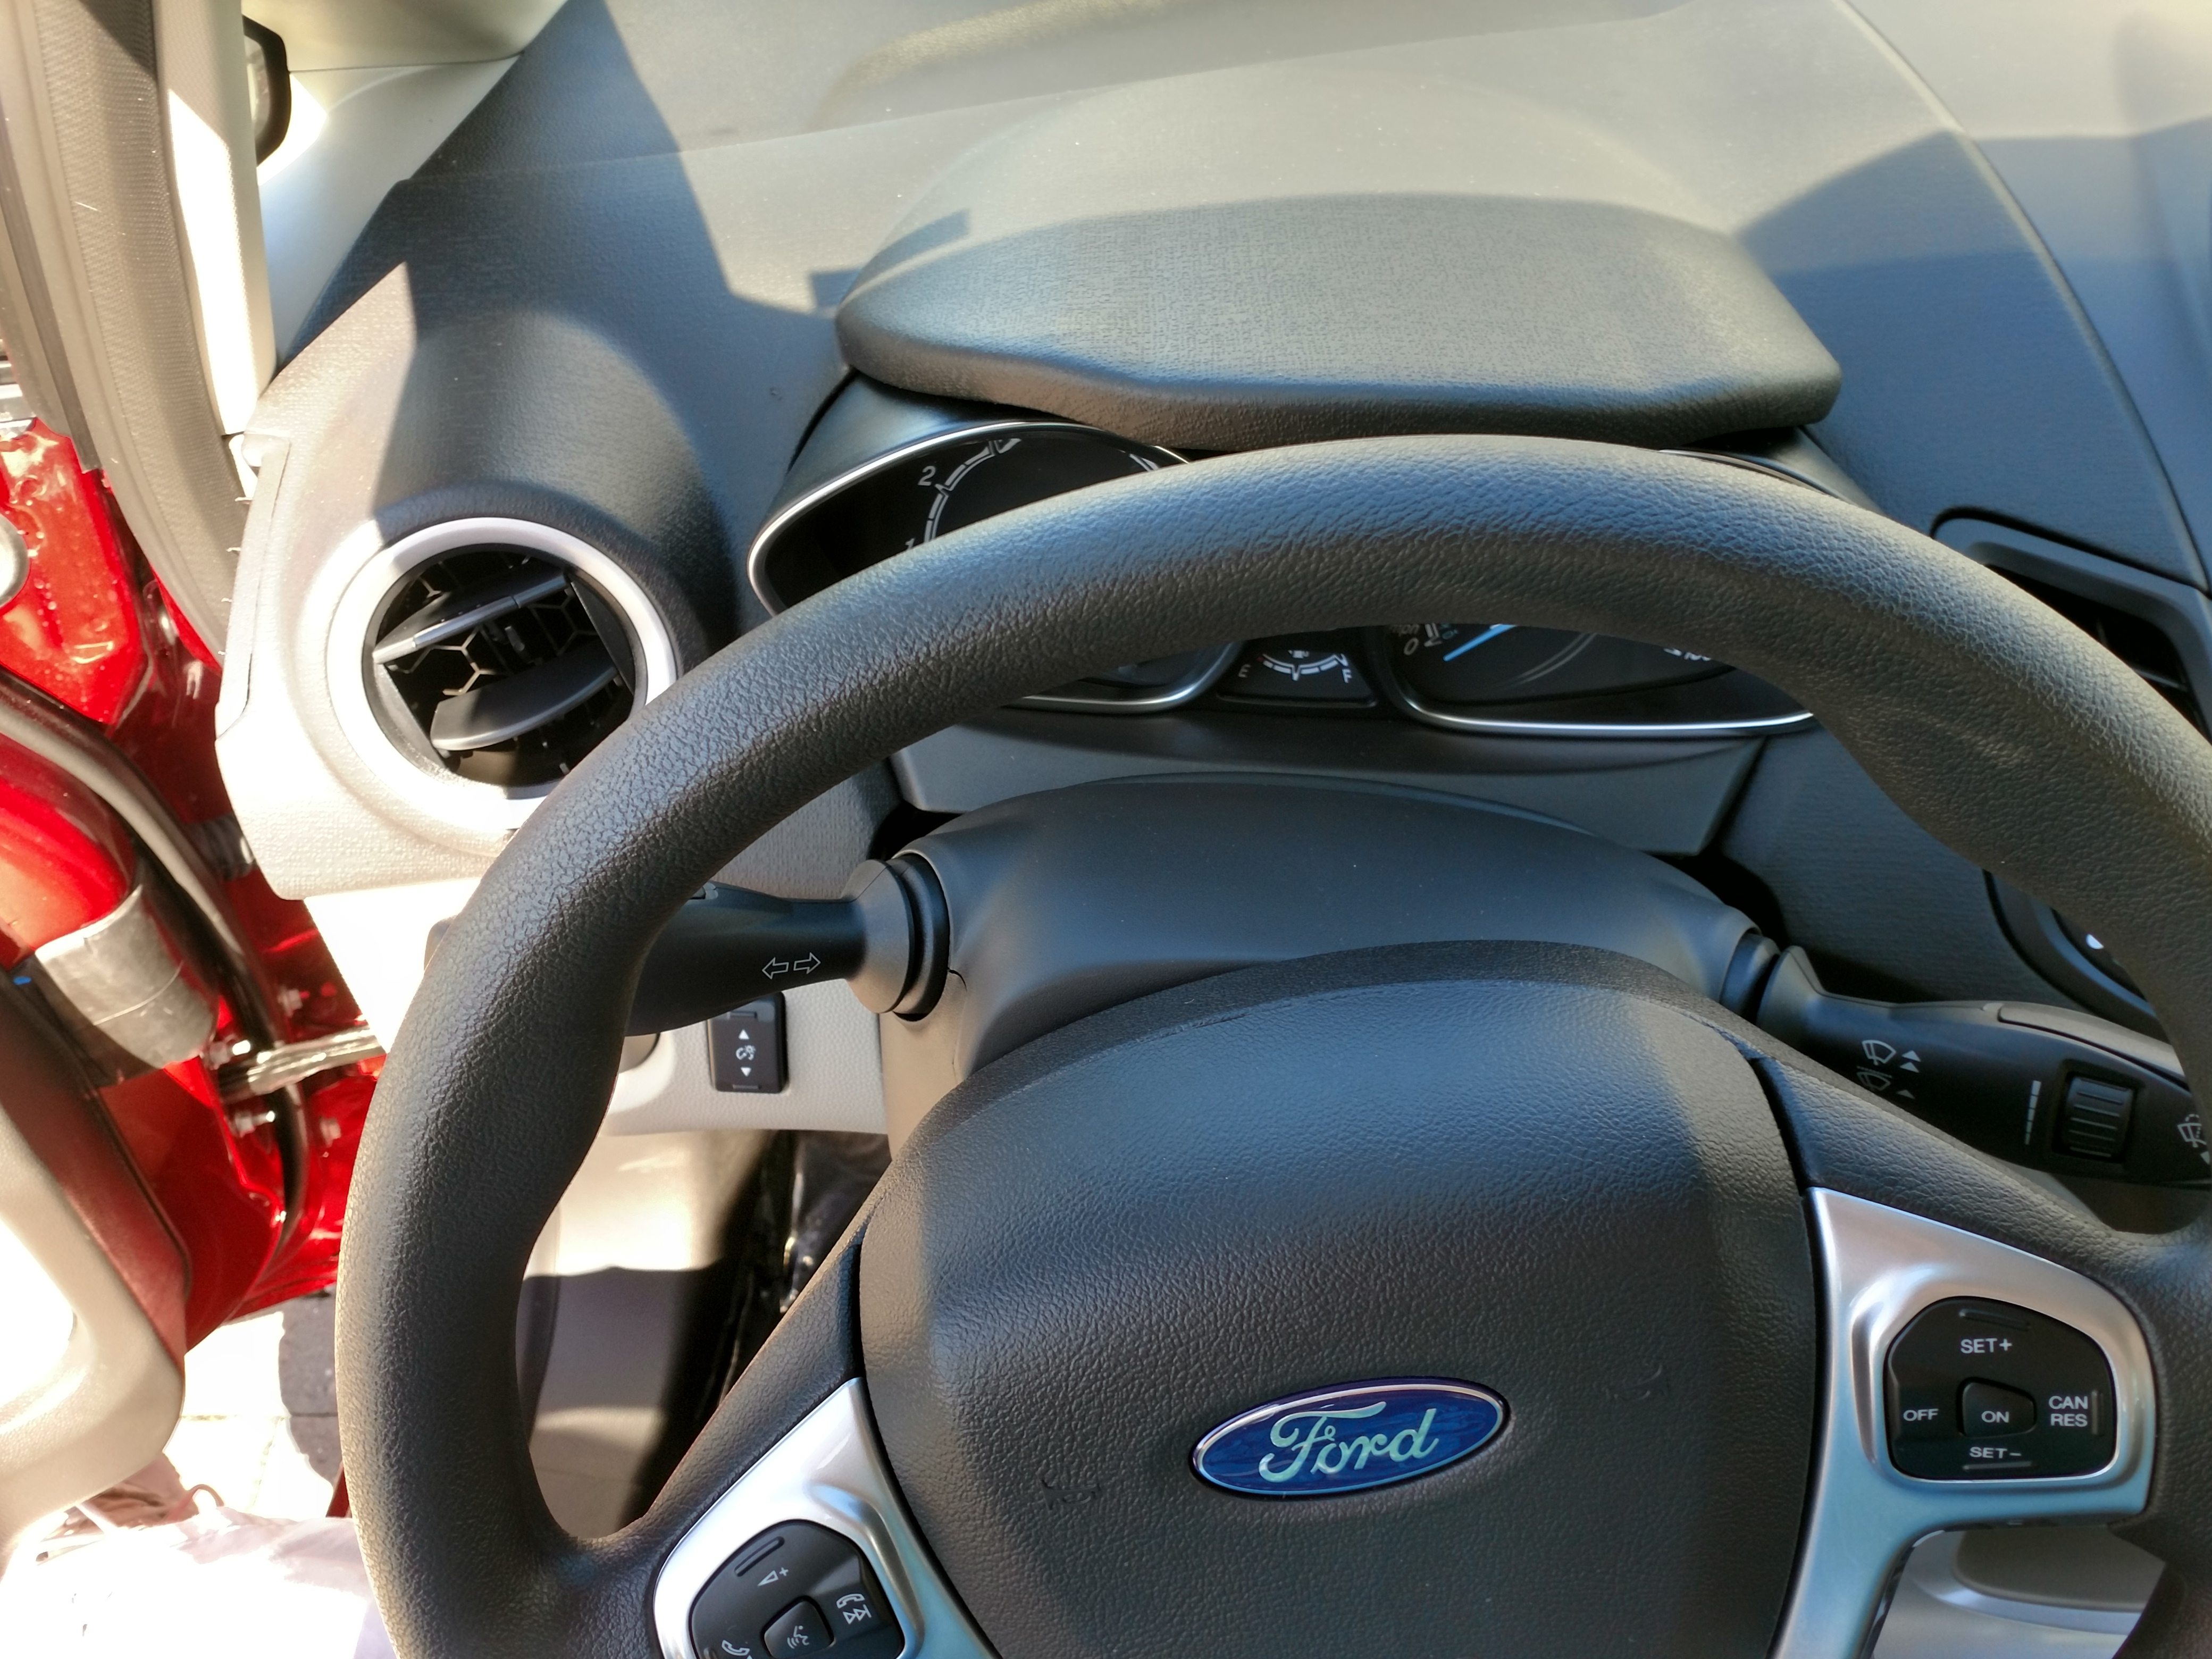Ford: (1179, 1373, 1521, 1511)
